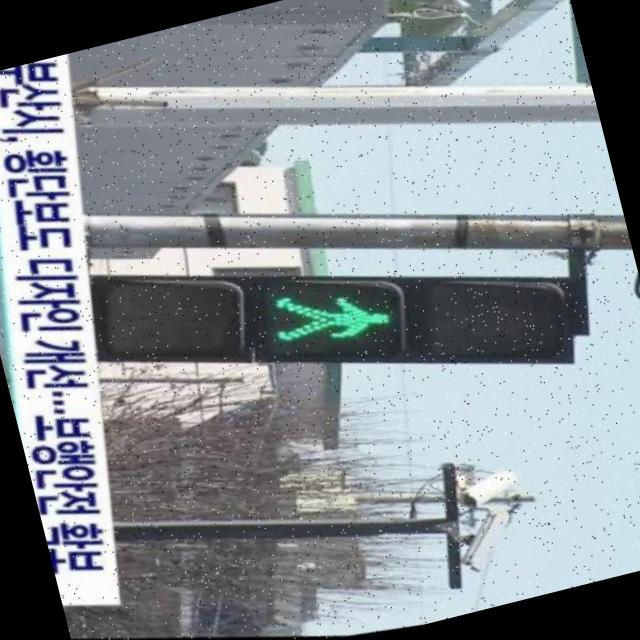green_light: (253, 267, 408, 383)
